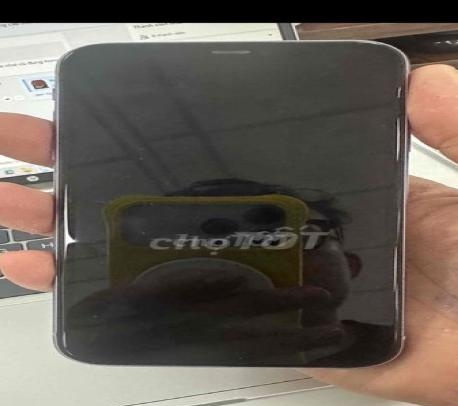scratch: (73, 242, 129, 268), (351, 36, 403, 53), (212, 349, 255, 368), (49, 330, 87, 350), (74, 306, 107, 327), (122, 168, 155, 185), (51, 45, 81, 62), (193, 214, 220, 226), (132, 156, 163, 166), (136, 230, 154, 238)
